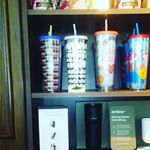cups: (92, 29, 120, 95), (36, 34, 64, 96), (63, 35, 90, 96), (126, 31, 150, 91)
